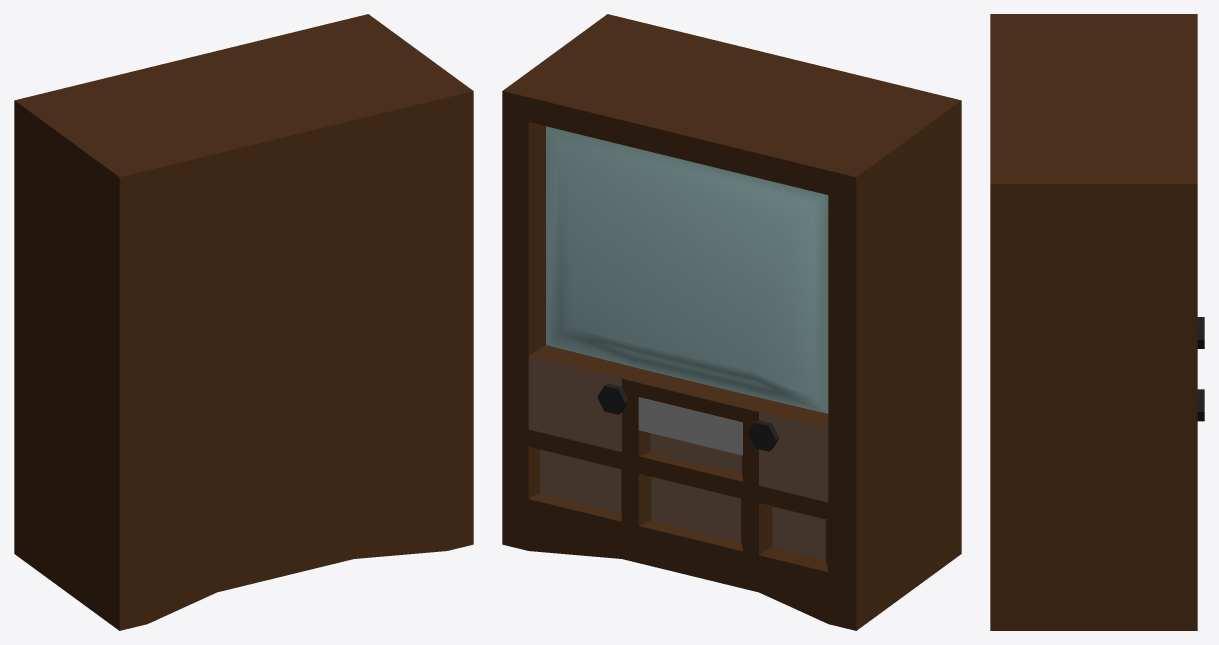
The model's file is TvSet.fbx.
3 renders of one model, left to right at view 1: azimuth 30°, elevation 25°; view 2: azimuth 150°, elevation 25°; view 3: azimuth 270°, elevation 25°, orthographic.
Parts seen in each view (by area): view 1: TvSet; view 2: TvSet; view 3: TvSet.
Part boxes in pixels (x1,y1,x2,y2): TvSet: [14, 14, 473, 630]; TvSet: [502, 14, 961, 630]; TvSet: [990, 14, 1204, 630].
Size of the model in its own units: 273 by 334 by 145.
